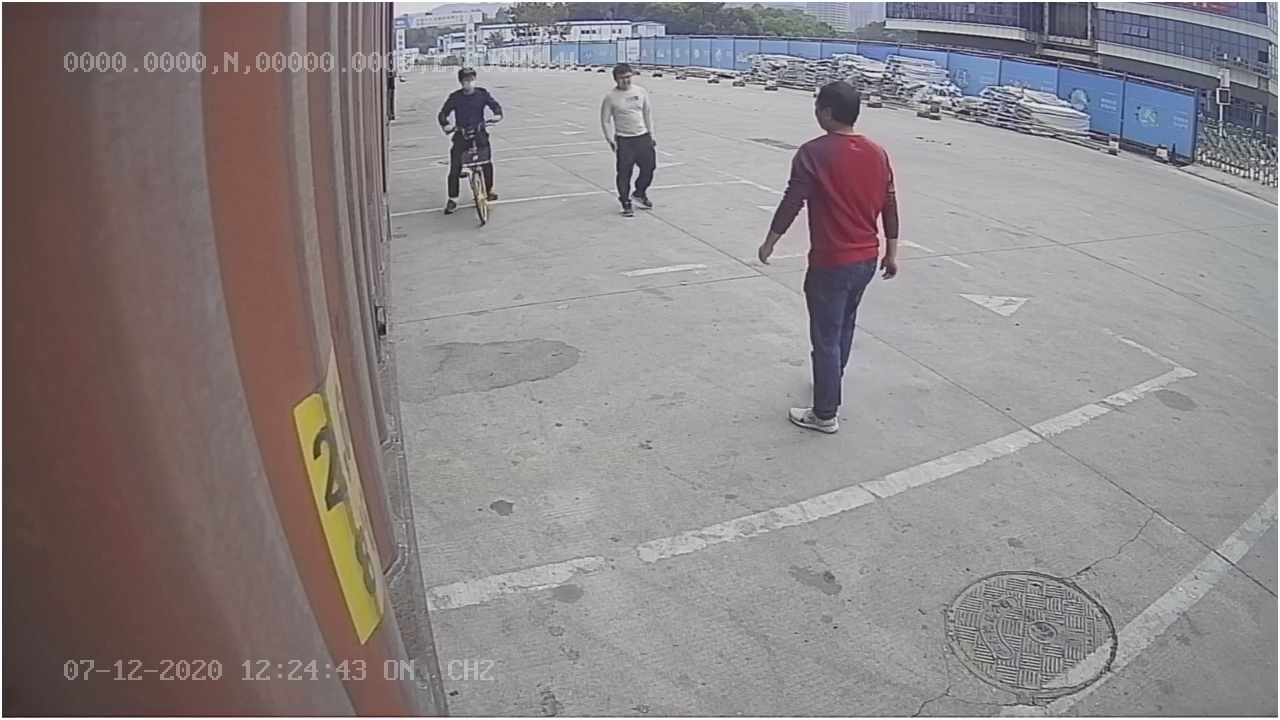person: (753, 76, 909, 436), (596, 62, 661, 221)
